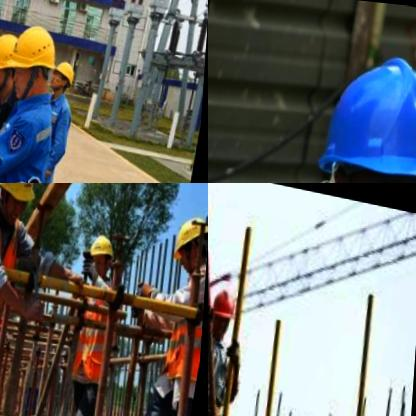helmet: (288, 24, 416, 183), (6, 11, 65, 98), (168, 200, 208, 269), (0, 19, 25, 98), (208, 280, 240, 340), (0, 183, 43, 224), (86, 224, 119, 270), (49, 51, 80, 94)
